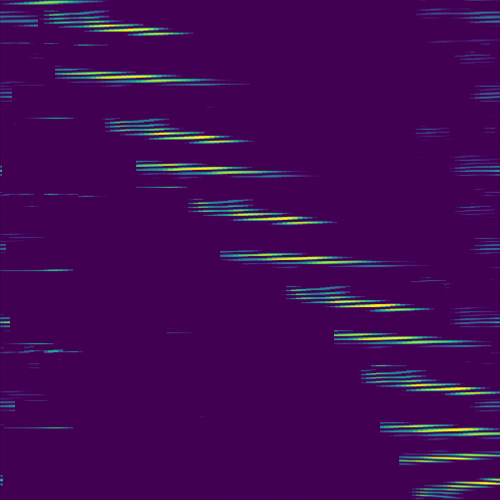semblance: (186, 198, 322, 228), (48, 12, 182, 39), (285, 288, 429, 313), (56, 64, 206, 86), (110, 123, 246, 147), (218, 248, 372, 269), (380, 373, 498, 399), (135, 159, 281, 180), (378, 419, 500, 441), (330, 328, 454, 347), (410, 475, 500, 499), (398, 451, 500, 465), (14, 1, 89, 5)
